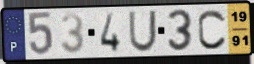3: (166, 8, 195, 53), (60, 10, 85, 56)
4: (98, 10, 124, 54)
5: (26, 10, 55, 58)
C: (197, 8, 229, 52)
U: (127, 9, 158, 54)
